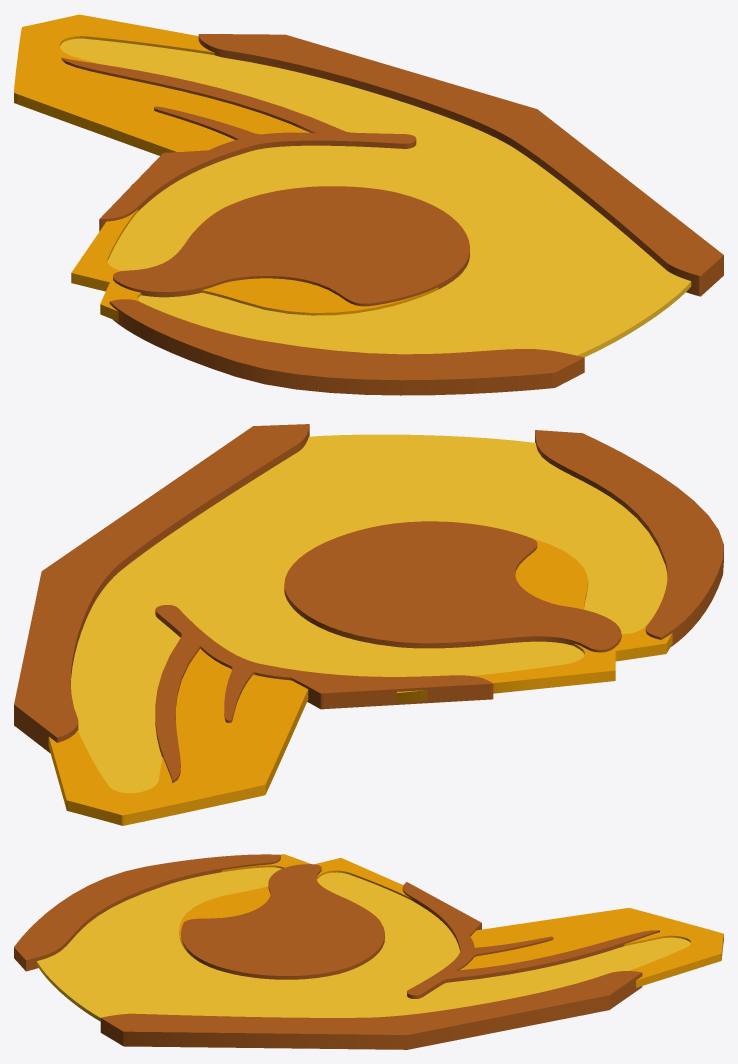
File: emoji_u1f44c.glb
3 views of the same model, one above another, from view 1: azimuth 30°, elevation 25°; view 2: azimuth 150°, elevation 25°; view 3: azimuth 270°, elevation 25° (orthographic). The views are drawn at different scales.
Parts seen in each view (by area): view 1: emoji_u1f44c; view 2: emoji_u1f44c; view 3: emoji_u1f44c.
Part boxes in pixels (bbox=[...]): emoji_u1f44c: bbox=[14, 14, 723, 395]; emoji_u1f44c: bbox=[14, 424, 723, 825]; emoji_u1f44c: bbox=[14, 854, 723, 1049].
Size of the model in its own units: 0.0214 by 0.0008 by 0.0348.
